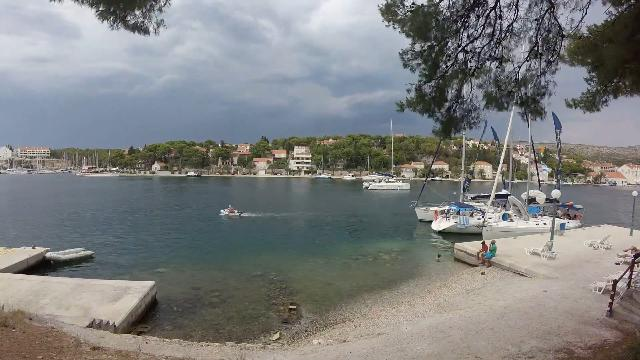Sailboat: (359, 173, 415, 193)
speedboat: (215, 200, 247, 220)
